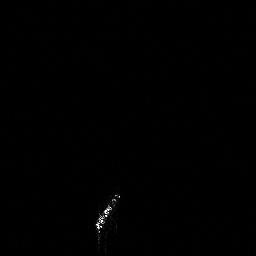ship: (91, 188, 122, 242)
